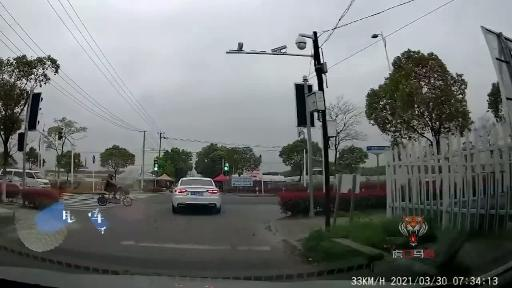Bike: (100, 174, 132, 211)
CAR: (172, 171, 222, 218), (8, 162, 52, 193)
